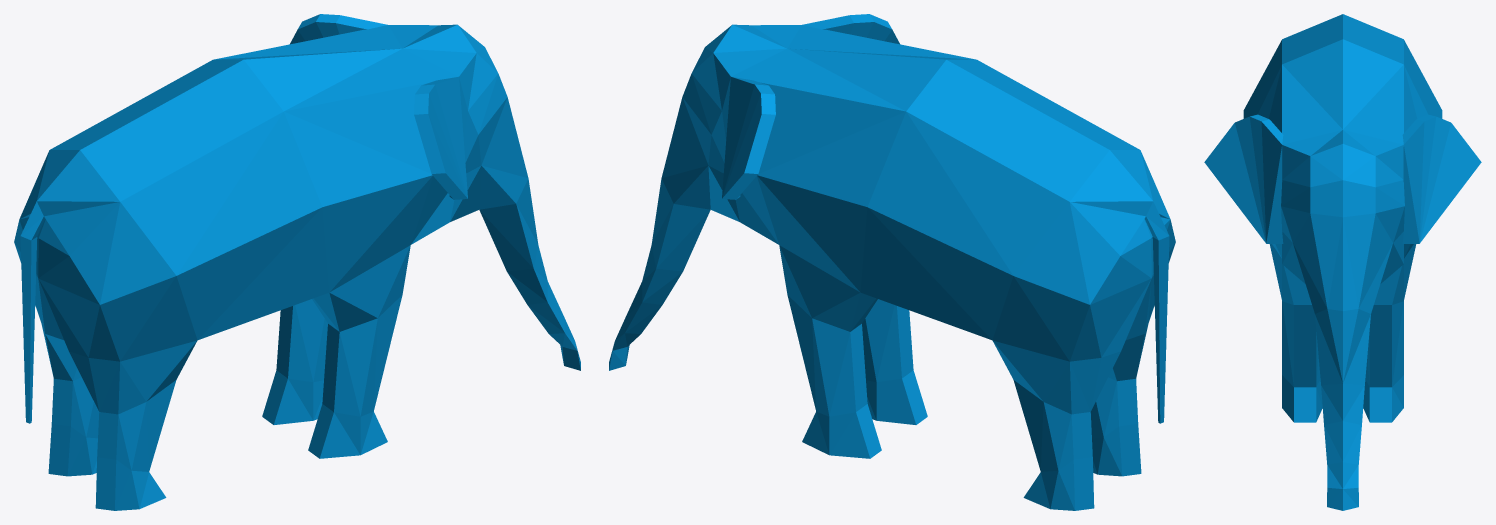
File: elephant.glb
3 renders of one model, left to right at view 1: azimuth 30°, elevation 25°; view 2: azimuth 150°, elevation 25°; view 3: azimuth 270°, elevation 25°, orthographic. The views are drawn at different scales.
Parts seen in each view (by area): view 1: node-0; view 2: node-0; view 3: node-0.
Boxes of the visible parts, <box> form: node-0: <box>14,14,580,510</box>; node-0: <box>609,14,1175,510</box>; node-0: <box>1204,14,1481,510</box>.
Bounding box in the file's own units: 1357 × 902 × 677.
